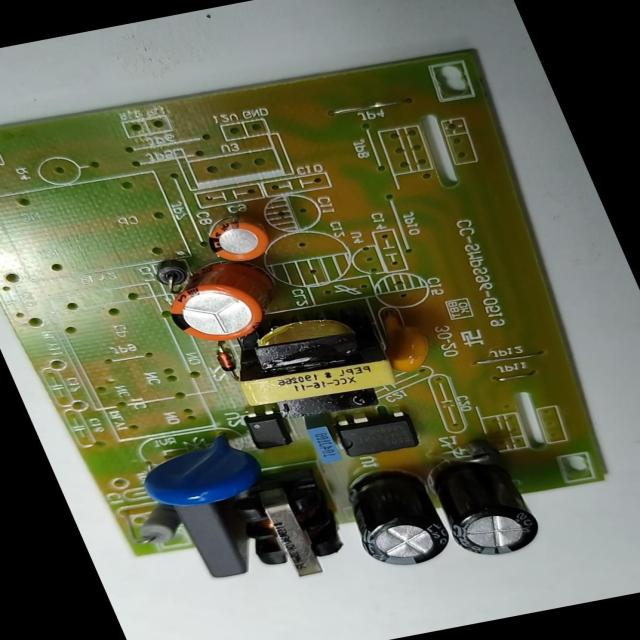Cap1: (153, 254, 291, 348)
Cap2: (198, 216, 276, 267)
Cap3: (331, 461, 458, 578)
Cap4: (422, 449, 547, 562)
MOSFET: (328, 409, 422, 463)
Mov: (129, 430, 275, 513)
Resistor: (127, 501, 189, 550)
Transformer: (209, 297, 408, 430), (224, 470, 356, 585)
